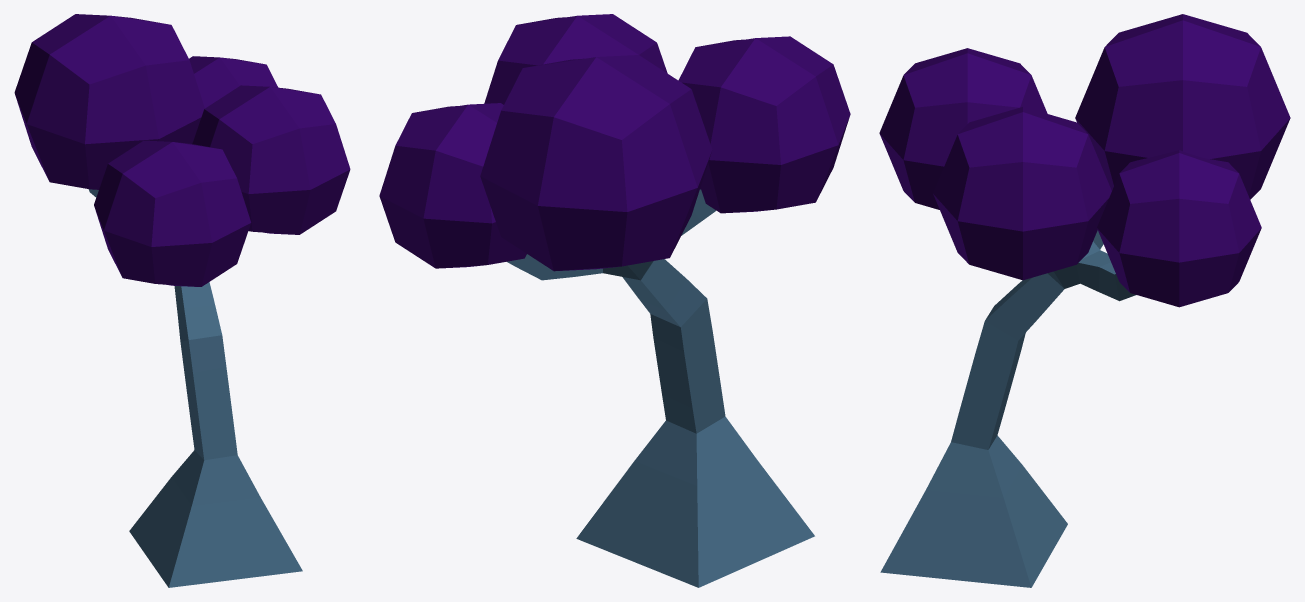
Rendered from TreeSmall1.fbx.
The picture shows the model from 3 angles, left to right: view 1: azimuth 30°, elevation 25°; view 2: azimuth 150°, elevation 25°; view 3: azimuth 270°, elevation 25°; orthographic projection. The views are drawn at different scales.
Parts seen in each view (by area): view 1: Cube.008, Plane.001, Cube.007, Cube.006, Cube.005; view 2: Cube.008, Plane.001, Cube.007, Cube.005, Cube.006; view 3: Plane.001, Cube.008, Cube.006, Cube.005, Cube.007.
Part boxes in pixels (left/top/right/bottom): Cube.008: left=14, top=14, right=204, bottom=189; Plane.001: left=88, top=189, right=302, bottom=587; Cube.007: left=94, top=140, right=251, bottom=286; Cube.006: left=192, top=85, right=350, bottom=234; Cube.005: left=189, top=56, right=278, bottom=108; Cube.008: left=480, top=55, right=712, bottom=271; Plane.001: left=507, top=189, right=814, bottom=587; Cube.007: left=678, top=36, right=850, bottom=213; Cube.005: left=379, top=103, right=526, bottom=268; Cube.006: left=484, top=14, right=667, bottom=104; Plane.001: left=880, top=230, right=1135, bottom=587; Cube.008: left=1075, top=14, right=1290, bottom=199; Cube.006: left=933, top=107, right=1111, bottom=280; Cube.005: left=1097, top=150, right=1261, bottom=307; Cube.007: left=879, top=48, right=1047, bottom=209.
Size of the model in its own units: 299 by 257 by 419.
